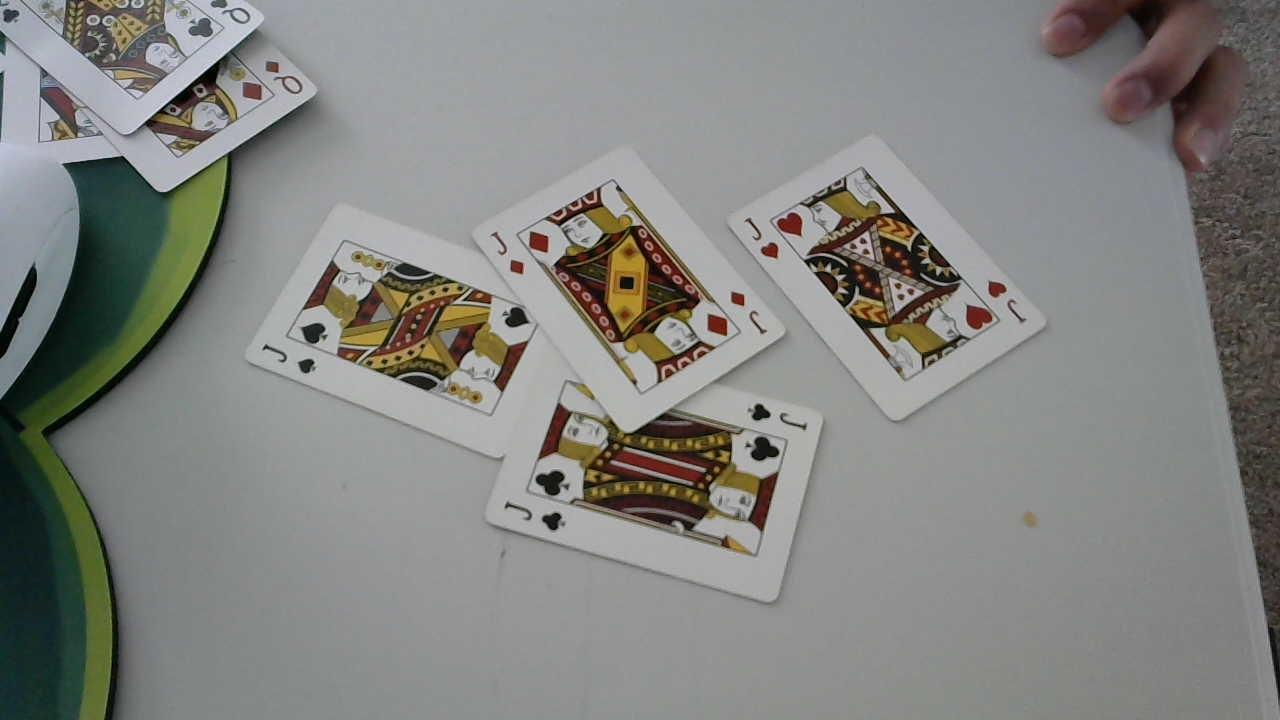JC: (502, 498, 569, 534), (745, 400, 813, 434)
JD: (724, 286, 769, 337), (490, 227, 531, 278)
JH: (983, 277, 1033, 331), (742, 212, 784, 266)
JS: (256, 340, 321, 377)
QD: (259, 58, 308, 99)
